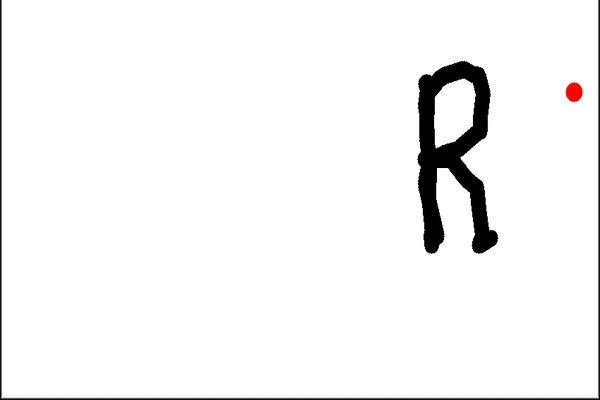R: (400, 59, 508, 258)
